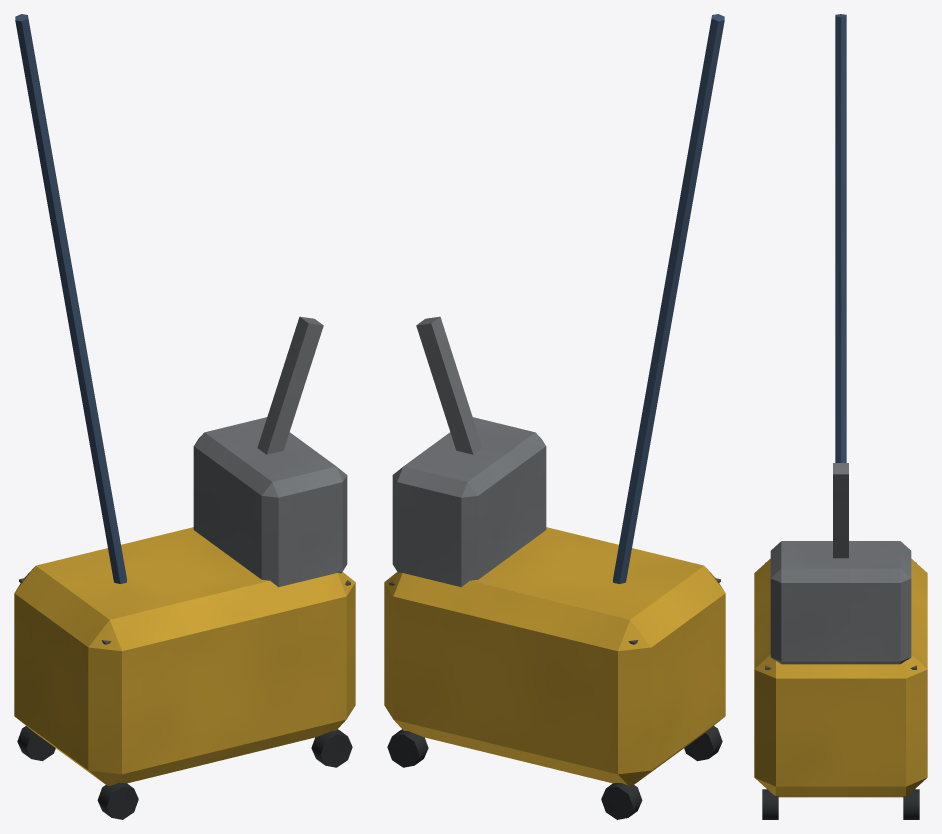
Rendered from mop_bucket.fbx.
The picture shows the model from 3 angles, left to right: view 1: azimuth 30°, elevation 25°; view 2: azimuth 150°, elevation 25°; view 3: azimuth 270°, elevation 25°; orthographic projection. The views are drawn at different scales.
Parts seen in each view (by area): view 1: mop_bucket; view 2: mop_bucket; view 3: mop_bucket.
Part boxes in pixels (x1,y1,x2,y2): mop_bucket: (14,14,355,819); mop_bucket: (384,14,725,819); mop_bucket: (754,14,927,819).
Size of the model in its own units: 0.5686 by 1.4 by 0.32.
1 material, 1 textured.
